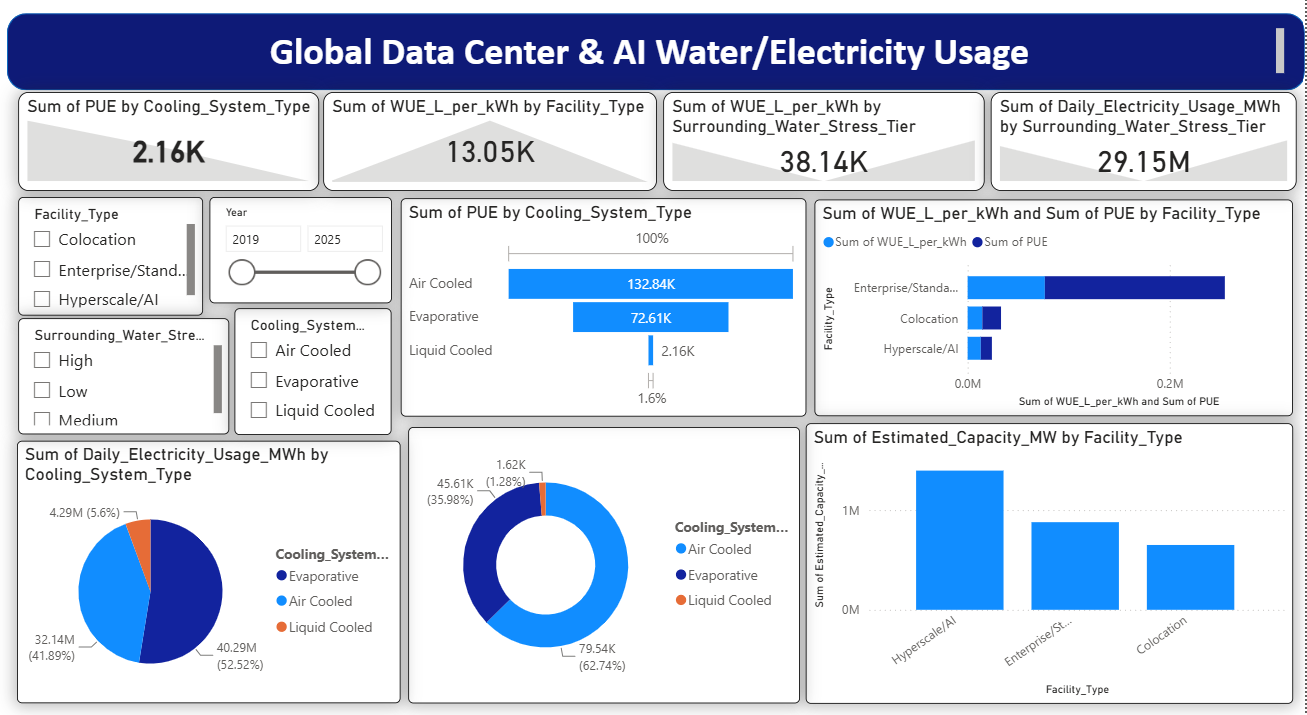

The page's visual inventory and layout, read from the dashboard file:
{"tool":"powerbi","page":{"name":"Page 1","canvas":[1280,720],"ordinal":0},"visuals":[{"type":"shape","box":[9.6,30.2,1270.7,75.5],"z":0},{"type":"textbox","box":[20.6,39.8,1243.2,54.9],"z":1000},{"type":"barChart","fields":{"Category":["data_center_hybrid (1).Facility_Type"],"Y":["Sum(data_center_hybrid (1).WUE_L_per_kWh)","Sum(data_center_hybrid (1).PUE)"]},"box":[800,213.3,468.3,211.7],"z":2000},{"type":"columnChart","fields":{"Category":["data_center_hybrid (1).Facility_Type"],"Y":["Sum(data_center_hybrid (1).Estimated_Capacity_MW)"]},"box":[791.4,431.4,477.1,274.3],"z":3000},{"type":"donutChart","fields":{"Category":["data_center_hybrid (1).Cooling_System_Type"],"Y":["CountNonNull(data_center_hybrid (1).Cooling_System_Type)"]},"box":[402.9,435.7,382.9,270],"z":4000},{"type":"funnel","fields":{"Category":["data_center_hybrid (1).Cooling_System_Type"],"Y":["Sum(data_center_hybrid (1).PUE)"]},"box":[395,211.7,396.7,213.3],"z":5000},{"type":"pieChart","fields":{"Y":["Sum(data_center_hybrid (1).Daily_Electricity_Usage_MWh)"],"Category":["data_center_hybrid (1).Cooling_System_Type"]},"box":[20,448.3,375,256.7],"z":6000},{"type":"slicer","fields":{"Values":["data_center_hybrid (1).Facility_Type"]},"box":[20.9,210,180.9,116.4],"z":7000},{"type":"slicer","fields":{"Values":["data_center_hybrid (1).Surrounding_Water_Stress_Tier"]},"box":[20.7,329.3,206.7,113.3],"z":8000},{"type":"slicer","fields":{"Values":["data_center_hybrid (1).Cooling_System_Type"]},"box":[232.7,318.7,153.3,124],"z":9000},{"type":"slicer","fields":{"Values":["data_center_hybrid (1).Year"]},"box":[208.2,210,178.2,103.6],"z":10000},{"type":"kpi","fields":{"Indicator":["Sum(data_center_hybrid (1).PUE)"],"TrendLine":["data_center_hybrid (1).Cooling_System_Type"]},"box":[20.7,107.9,294.3,96.4],"z":11000},{"type":"kpi","fields":{"Indicator":["Sum(data_center_hybrid (1).WUE_L_per_kWh)"],"TrendLine":["data_center_hybrid (1).Facility_Type"]},"box":[318.6,107.1,326.4,97.1],"z":12000},{"type":"kpi","fields":{"Indicator":["Sum(data_center_hybrid (1).WUE_L_per_kWh)"],"TrendLine":["data_center_hybrid (1).Surrounding_Water_Stress_Tier"]},"box":[652.1,107.1,314.3,96.4],"z":13000},{"type":"kpi","fields":{"Indicator":["Sum(data_center_hybrid (1).Daily_Electricity_Usage_MWh)"],"TrendLine":["data_center_hybrid (1).Surrounding_Water_Stress_Tier"]},"box":[972.1,107.1,299.3,96.4],"z":14000}]}

Visuals, with their boxes in screenshot pixels (x1, y1, x2, y2), scaled from the page's 1280x720 canvas onto the 1307x715 screenshot:
shape: box(10, 30, 1306, 105)
textbox: box(21, 40, 1290, 94)
barChart - data_center_hybrid (1).Facility_Type x Sum(data_center_hybrid (1).WUE_L_per_kWh): box(817, 212, 1295, 422)
columnChart - data_center_hybrid (1).Facility_Type x Sum(data_center_hybrid (1).Estimated_Capacity_MW): box(808, 428, 1295, 701)
donutChart - data_center_hybrid (1).Cooling_System_Type x CountNonNull(data_center_hybrid (1).Cooling_System_Type): box(411, 433, 802, 701)
funnel - data_center_hybrid (1).Cooling_System_Type x Sum(data_center_hybrid (1).PUE): box(403, 210, 808, 422)
pieChart - Sum(data_center_hybrid (1).Daily_Electricity_Usage_MWh) x data_center_hybrid (1).Cooling_System_Type: box(20, 445, 403, 700)
slicer - data_center_hybrid (1).Facility_Type: box(21, 209, 206, 324)
slicer - data_center_hybrid (1).Surrounding_Water_Stress_Tier: box(21, 327, 232, 440)
slicer - data_center_hybrid (1).Cooling_System_Type: box(238, 316, 394, 440)
slicer - data_center_hybrid (1).Year: box(213, 209, 395, 311)
kpi - Sum(data_center_hybrid (1).PUE) x data_center_hybrid (1).Cooling_System_Type: box(21, 107, 322, 203)
kpi - Sum(data_center_hybrid (1).WUE_L_per_kWh) x data_center_hybrid (1).Facility_Type: box(325, 106, 659, 203)
kpi - Sum(data_center_hybrid (1).WUE_L_per_kWh) x data_center_hybrid (1).Surrounding_Water_Stress_Tier: box(666, 106, 987, 202)
kpi - Sum(data_center_hybrid (1).Daily_Electricity_Usage_MWh) x data_center_hybrid (1).Surrounding_Water_Stress_Tier: box(993, 106, 1298, 202)
